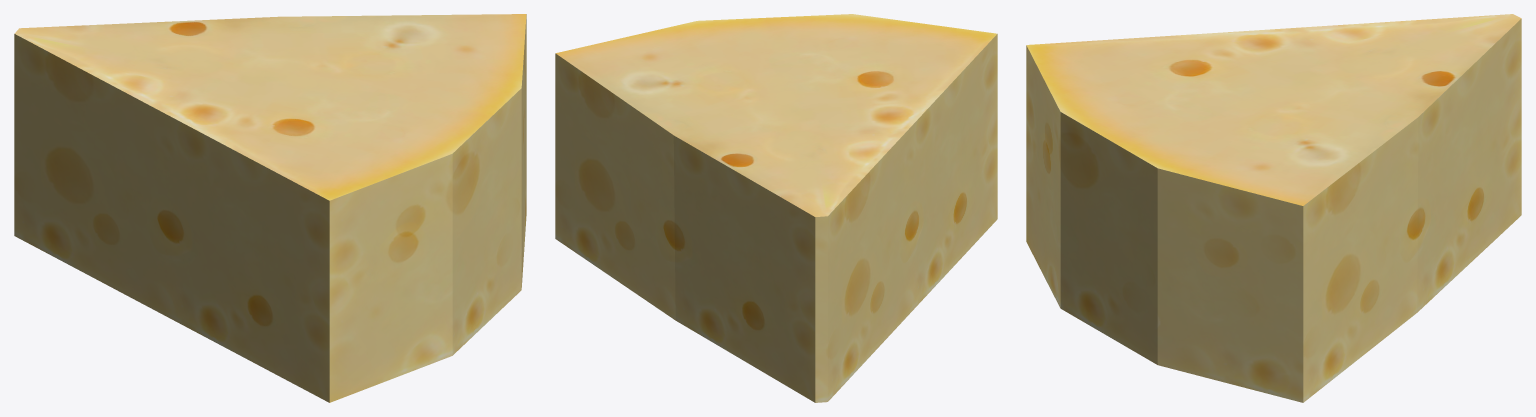
Rendered from CheeseBlock.fbx.
3 renders of one model, left to right at view 1: azimuth 30°, elevation 25°; view 2: azimuth 150°, elevation 25°; view 3: azimuth 270°, elevation 25°, orthographic. The views are drawn at different scales.
Visible parts, largest first — view 1: CheeseBlock; view 2: CheeseBlock; view 3: CheeseBlock.
Part boxes in pixels (x1,y1,x2,y2): CheeseBlock: (14,14,526,402); CheeseBlock: (555,14,997,402); CheeseBlock: (1026,14,1521,402).
Size of the model in its own units: 27.21 by 13.01 by 29.65.
